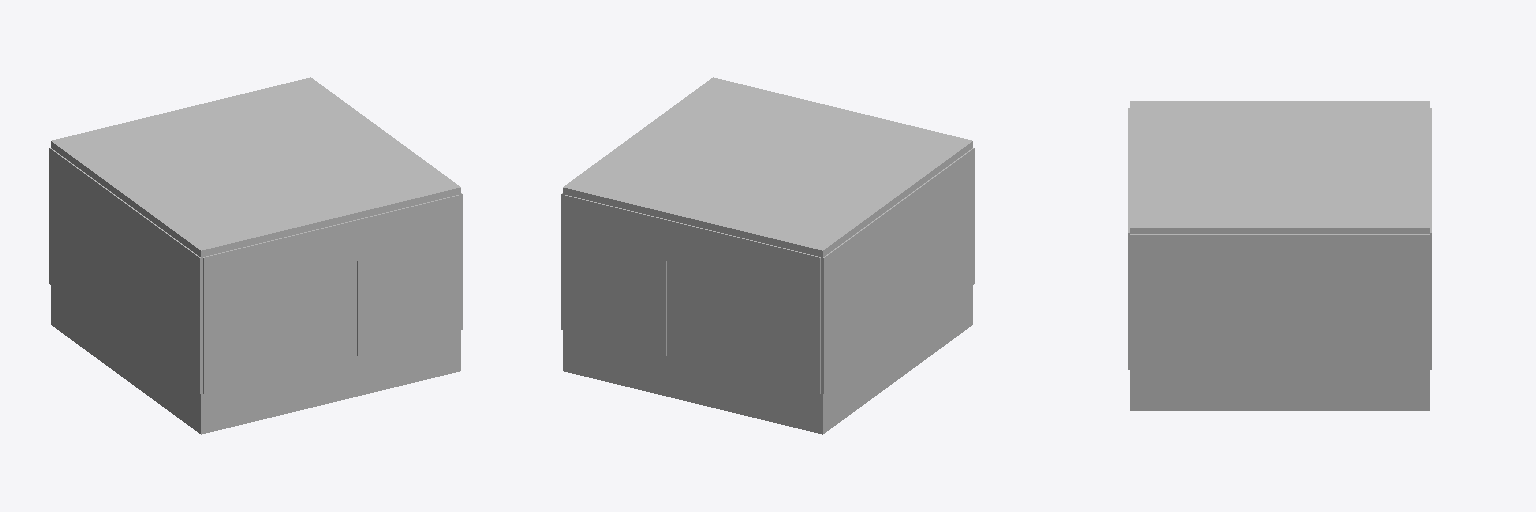
The model's file is 1x1_hotel_room_straight_z.obj.
The picture shows the model from 3 angles: view 1: azimuth 30°, elevation 25°; view 2: azimuth 150°, elevation 25°; view 3: azimuth 270°, elevation 25°; orthographic projection.
Visible parts, largest first — view 1: UCX_1x1_hotel_room_straight_z_10, UCX_1x1_hotel_room_straight_z_09, UCX_1x1_hotel_room_straight_z_00, UCX_1x1_hotel_room_straight_z_03, UCX_1x1_hotel_room_straight_z_02, 1x1_hotel_room_straight_z, UCX_1x1_hotel_room_straight_z_04; view 2: UCX_1x1_hotel_room_straight_z_10, UCX_1x1_hotel_room_straight_z_09, UCX_1x1_hotel_room_straight_z_00, UCX_1x1_hotel_room_straight_z_05, UCX_1x1_hotel_room_straight_z_06, 1x1_hotel_room_straight_z, UCX_1x1_hotel_room_straight_z_07; view 3: UCX_1x1_hotel_room_straight_z_08, UCX_1x1_hotel_room_straight_z_10, UCX_1x1_hotel_room_straight_z_00.
Boxes of the visible parts, box(x1,y1,x2,y2) form: UCX_1x1_hotel_room_straight_z_10: box(51, 77, 460, 256); UCX_1x1_hotel_room_straight_z_09: box(49, 148, 202, 393); UCX_1x1_hotel_room_straight_z_00: box(51, 286, 460, 434); UCX_1x1_hotel_room_straight_z_03: box(203, 232, 305, 393); UCX_1x1_hotel_room_straight_z_02: box(357, 195, 459, 355); 1x1_hotel_room_straight_z: box(51, 147, 460, 394); UCX_1x1_hotel_room_straight_z_04: box(305, 220, 357, 272); UCX_1x1_hotel_room_straight_z_10: box(563, 77, 972, 257); UCX_1x1_hotel_room_straight_z_09: box(821, 148, 974, 393); UCX_1x1_hotel_room_straight_z_00: box(563, 286, 972, 434); UCX_1x1_hotel_room_straight_z_05: box(718, 232, 820, 393); UCX_1x1_hotel_room_straight_z_06: box(564, 195, 666, 355); 1x1_hotel_room_straight_z: box(563, 147, 972, 394); UCX_1x1_hotel_room_straight_z_07: box(666, 220, 718, 272); UCX_1x1_hotel_room_straight_z_08: box(1130, 234, 1429, 370); UCX_1x1_hotel_room_straight_z_10: box(1130, 101, 1429, 233); UCX_1x1_hotel_room_straight_z_00: box(1130, 371, 1429, 410).
Bounding box in the file's own units: 20.2 × 13.5 × 20.2.